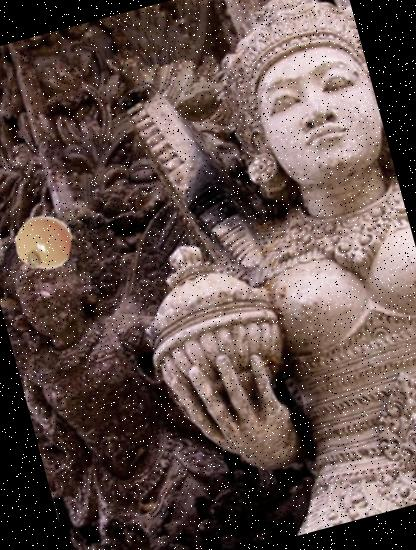Physalis: (8, 208, 78, 278)
